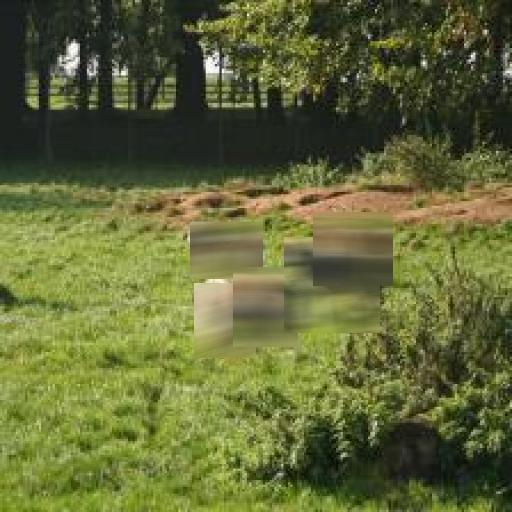wolf: (284, 238, 380, 334), (313, 212, 393, 286), (233, 268, 298, 348), (194, 283, 256, 358), (190, 222, 263, 279)
